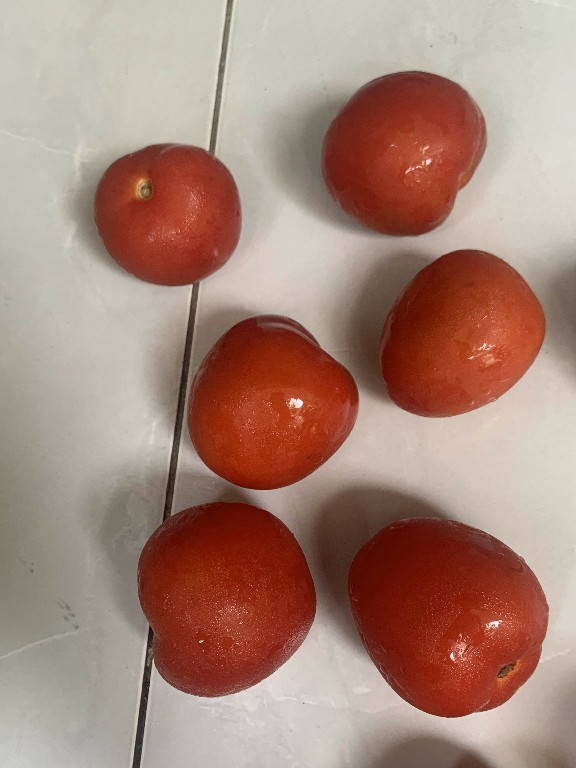OK: (336, 509, 552, 725), (124, 493, 324, 713), (310, 52, 502, 250), (179, 304, 364, 500), (371, 241, 553, 430), (84, 134, 254, 293)
